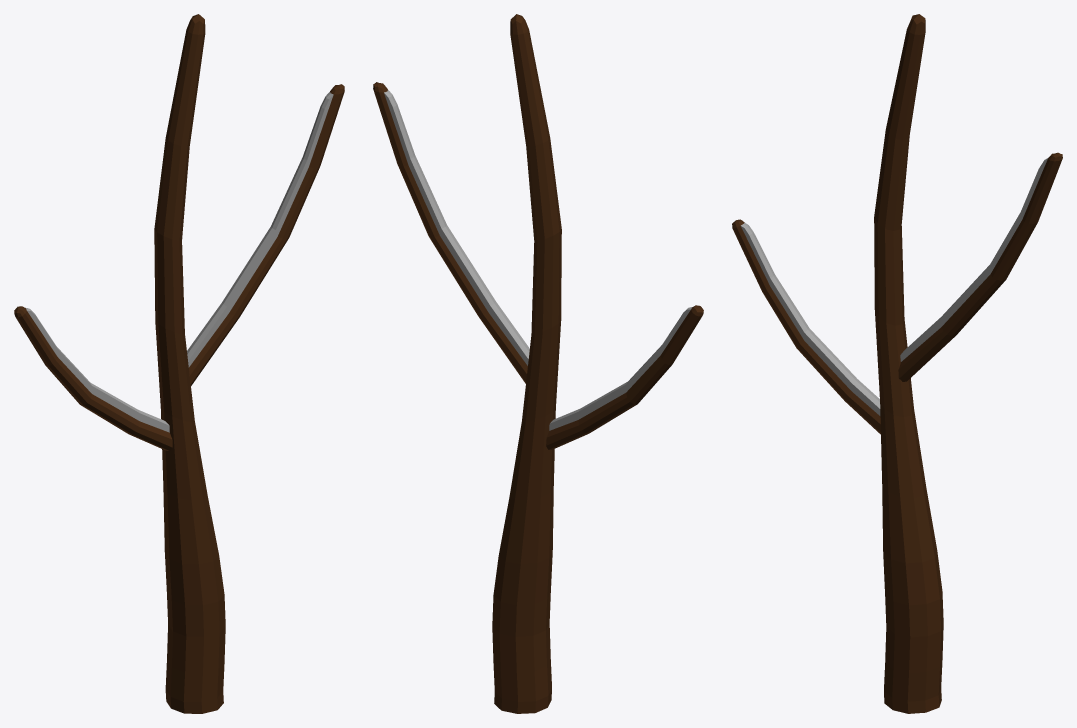
Rendered from Tree3.obj.
3 renders of one model, left to right at view 1: azimuth 30°, elevation 25°; view 2: azimuth 150°, elevation 25°; view 3: azimuth 330°, elevation 25°, orthographic.
Visible parts, largest first — view 1: Tree3_Cylinder.010; view 2: Tree3_Cylinder.010; view 3: Tree3_Cylinder.010.
Boxes of the visible parts, left/top/right/bottom form: Tree3_Cylinder.010: left=14, top=14, right=344, bottom=713; Tree3_Cylinder.010: left=373, top=14, right=703, bottom=713; Tree3_Cylinder.010: left=732, top=14, right=1062, bottom=713.
Size of the model in its own units: 3.33 by 6.67 by 0.4869.
